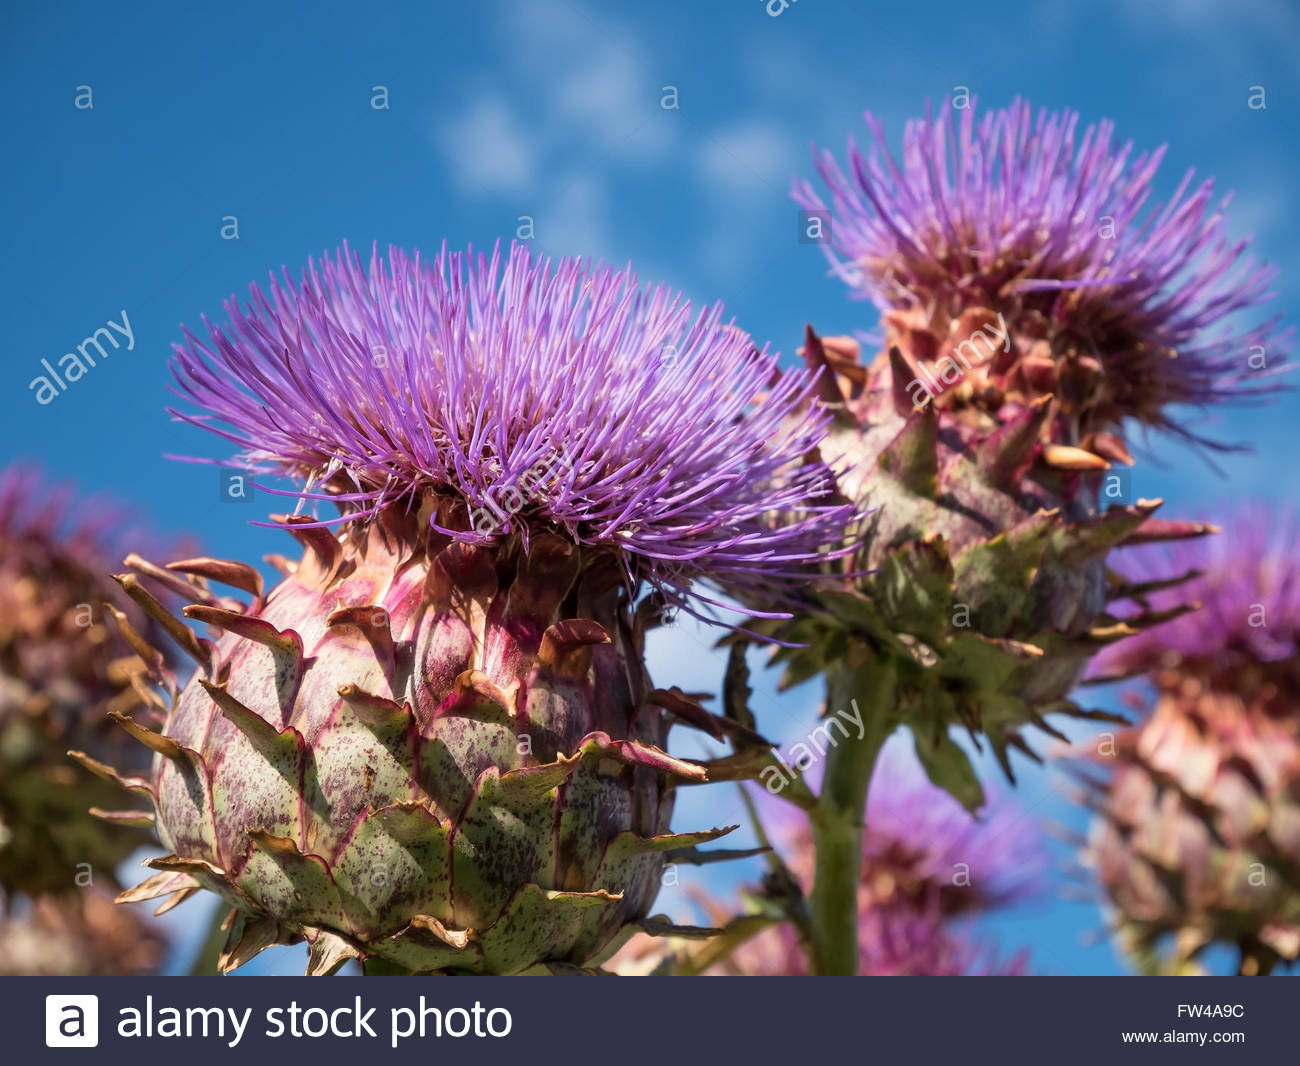thistle: (104, 247, 785, 993), (783, 93, 1277, 699), (1100, 550, 1300, 954)
